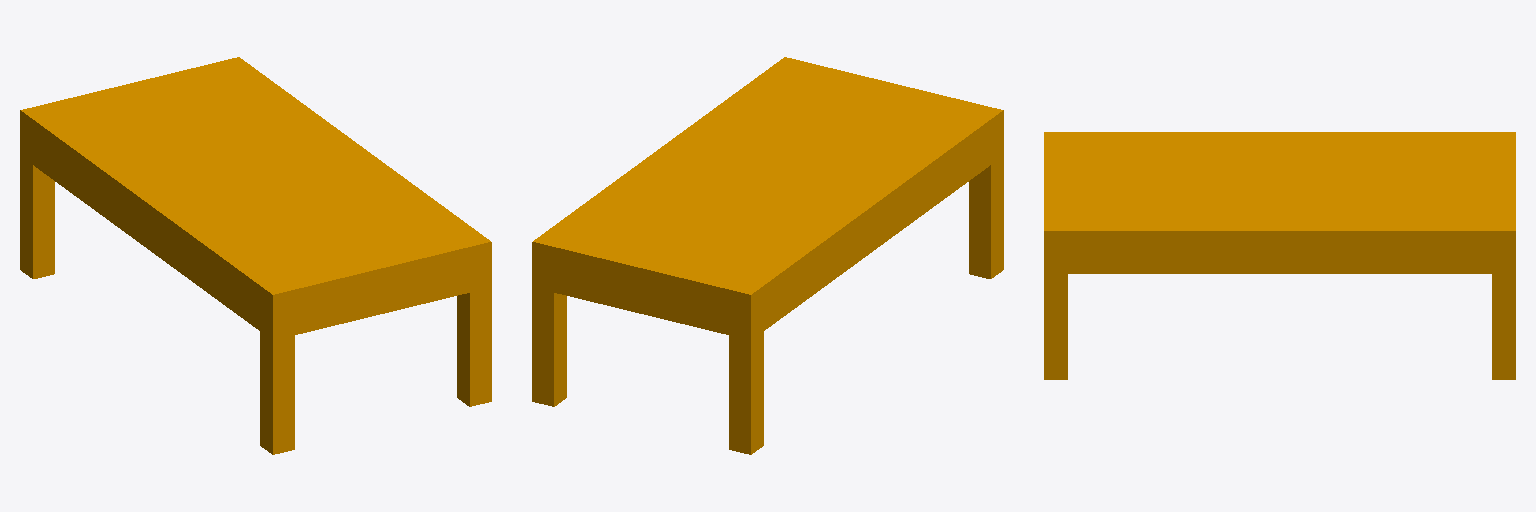
URDF robot description (small_table):
<?xml version="1.0" ?>
<robot name="small_table" version="1.0">
  <link name="small_table">
    <inertial>
      <origin xyz="0.0 0.0 0.23000000417232513" rpy="1.5707963705062866 -1.5707963705062866 0.0"/>
      <mass value="10.0"/>
      <inertia ixx="1.7316666841506958" ixy="0.0" ixz="0.0" iyy="1.502666711807251" iyz="0.0" izz="0.42766666412353516"/>
    </inertial>
    <visual name="small_table_geom_1">
      <origin xyz="0.0 0.0 0.30000001192092896" rpy="0.0 0.0 0.0"/>
      <geometry>
        <box size="0.5 1.0 0.10000000149011612"/>
      </geometry>
    </visual>
    <visual name="small_table_geom_2">
      <origin xyz="0.22499999403953552 0.4749999940395355 0.125" rpy="0.0 0.0 0.0"/>
      <geometry>
        <box size="0.05000000074505806 0.05000000074505806 0.25"/>
      </geometry>
    </visual>
    <visual name="small_table_geom_3">
      <origin xyz="0.22499999403953552 -0.4749999940395355 0.125" rpy="0.0 0.0 0.0"/>
      <geometry>
        <box size="0.05000000074505806 0.05000000074505806 0.25"/>
      </geometry>
    </visual>
    <visual name="small_table_geom_4">
      <origin xyz="-0.22499999403953552 0.4749999940395355 0.125" rpy="0.0 0.0 0.0"/>
      <geometry>
        <box size="0.05000000074505806 0.05000000074505806 0.25"/>
      </geometry>
    </visual>
    <visual name="small_table_geom_5">
      <origin xyz="-0.22499999403953552 -0.4749999940395355 0.125" rpy="0.0 0.0 0.0"/>
      <geometry>
        <box size="0.05000000074505806 0.05000000074505806 0.25"/>
      </geometry>
    </visual>
  </link>
</robot>

--- Render facts (derived) ---
The picture shows the robot from 3 angles, left to right: view 1: azimuth 30°, elevation 25°; view 2: azimuth 150°, elevation 25°; view 3: azimuth 270°, elevation 25°; orthographic projection.
Model small_table with 1 links and 0 joints (none), rooted at small_table, posed every joint at zero.
Links seen in each view (by area): view 1: small_table; view 2: small_table; view 3: small_table.
Boxes of the visible links, x1,y1,x2,y2 form: small_table: (20,57,491,454); small_table: (532,57,1003,454); small_table: (1044,132,1515,379).
Bounding box of the posed robot: 0.5 × 1 × 0.35 m (x, y, z).
Geometry: primitives only (box / cylinder / sphere), no mesh files.